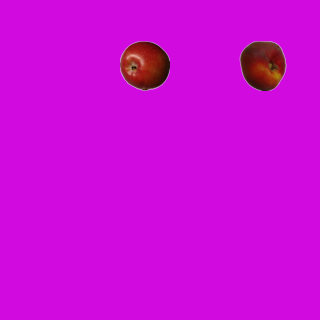Apple Braeburn: (119, 40, 169, 90)
Nectarine Flat: (237, 40, 287, 90)
